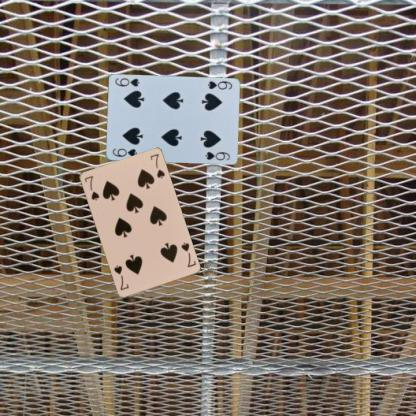6s: (204, 78, 233, 90), (110, 146, 138, 158)
7s: (179, 239, 197, 269), (82, 173, 100, 202)
